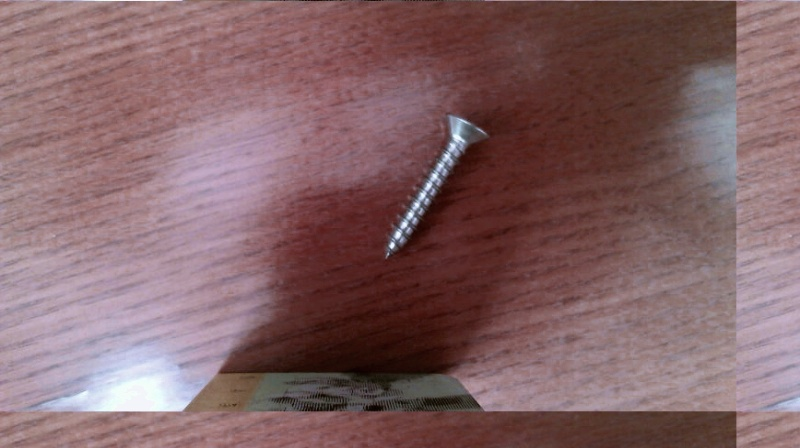S001: (377, 109, 493, 266)
